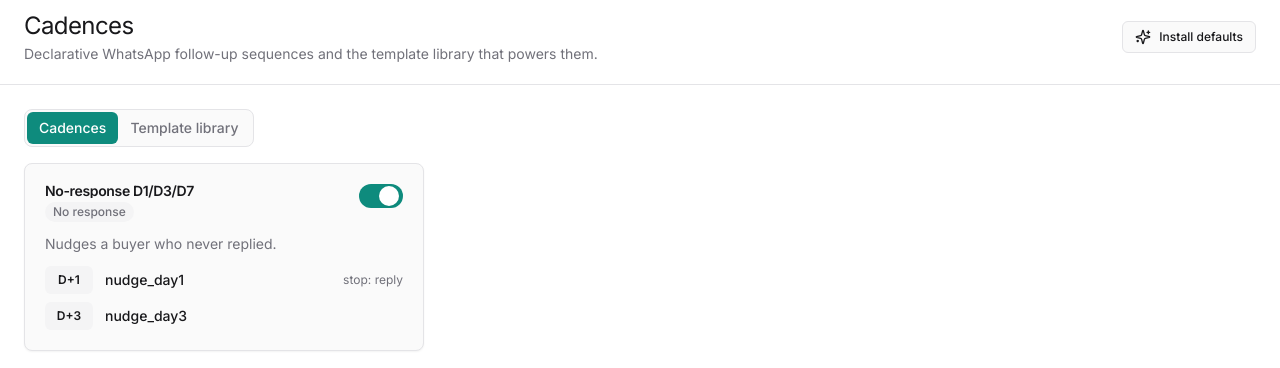
Test: the template library › spins while the templates load
Click the button "Template library" at (184, 128), box [118,112,250,144]
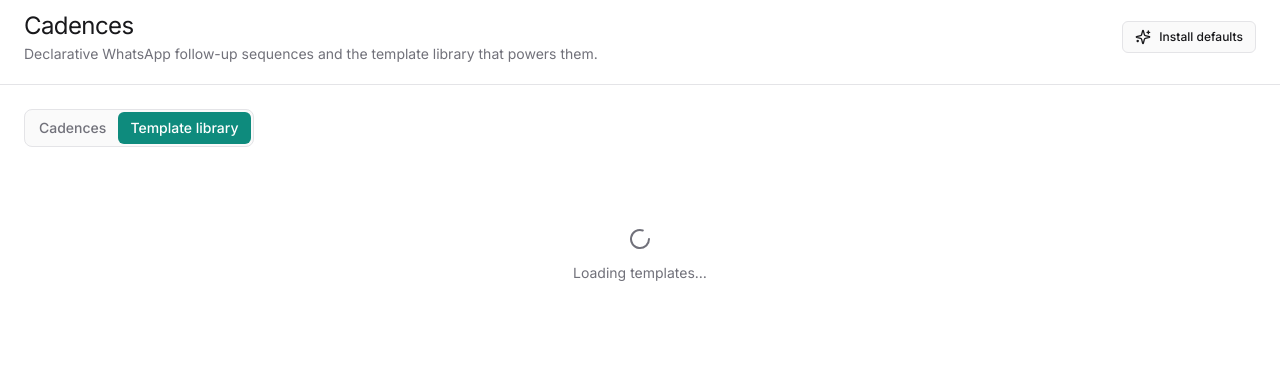
Expected: the text "Loading templates…" is shown, [573,263,707,283]
